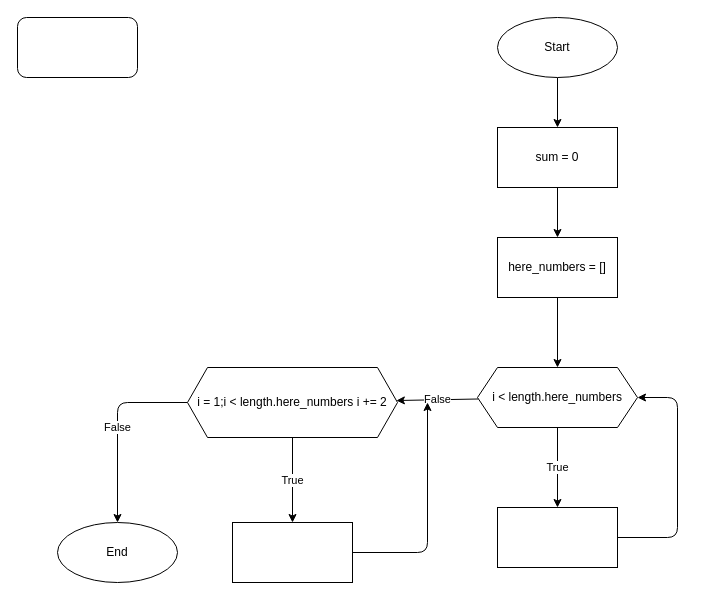
The diagram is 703 pixels wide and 600 high, and some of its shapes have lost their labels. The box of each missing label's shape, as (x1, y1, x2, y2) in pixels:
here_numbers = random: (496, 506, 618, 568)
sum += i: (232, 522, 352, 582)
Найти сумму чисел списка стоящих на нечетной позиции: (16, 16, 138, 78)
